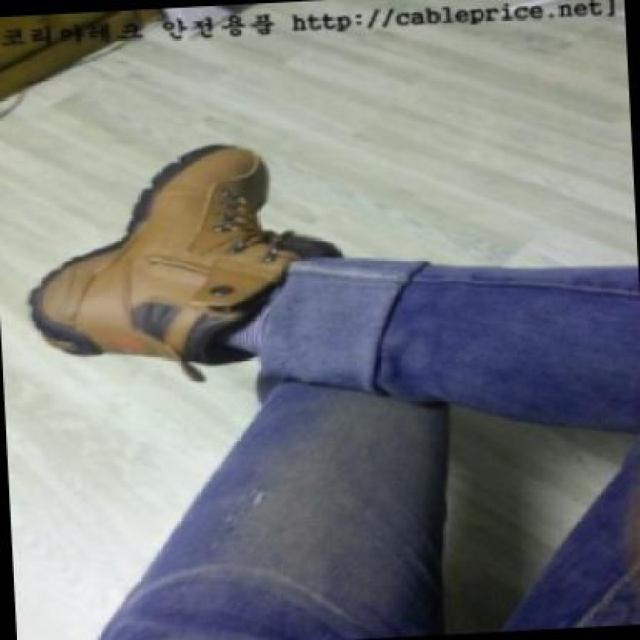Safety Boots: (30, 145, 340, 379)
